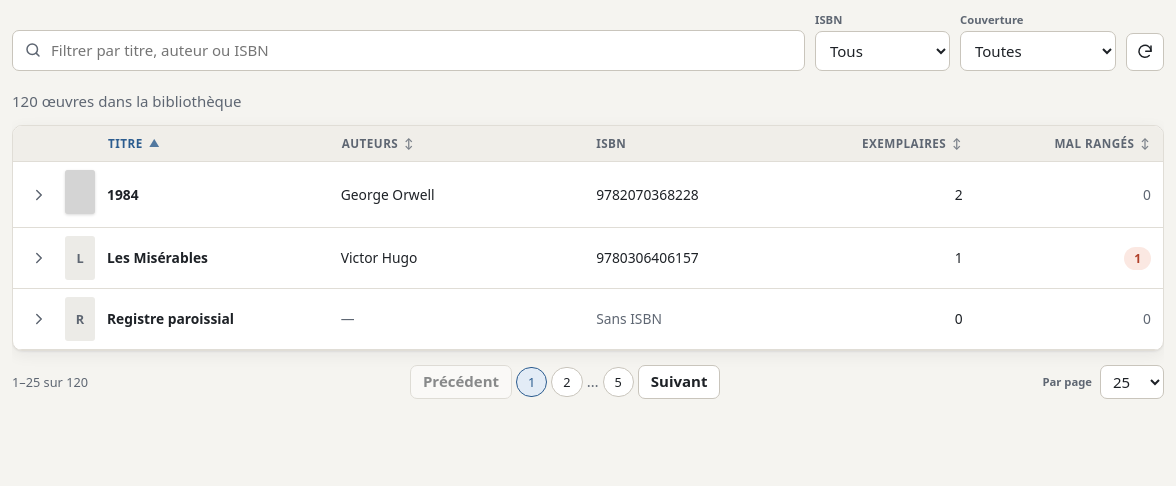
Test: EcranBase › un clic sur la ligne la déplie aussi ; une œuvre sans exemplaire le signale
Click the text "Registre paroissial": (212, 319) 95,288 -> 329,350
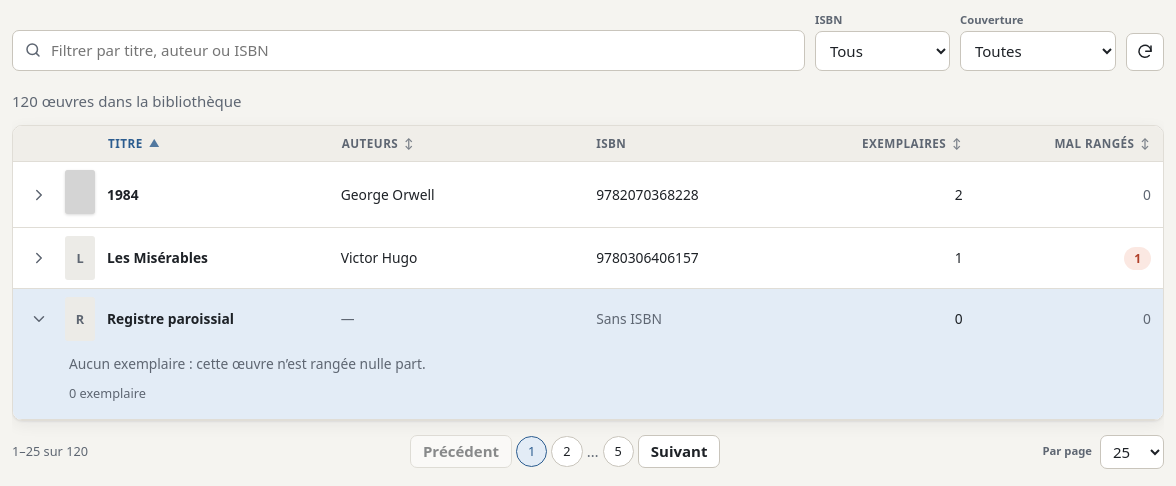
expect the text "Aucun exemplaire : cette œuvre n’est rangée nulle part." is shown: met, box 69,354 -> 426,373
